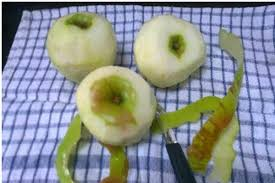damaged_apple: (73, 70, 157, 147), (131, 20, 217, 87), (48, 17, 116, 79)
